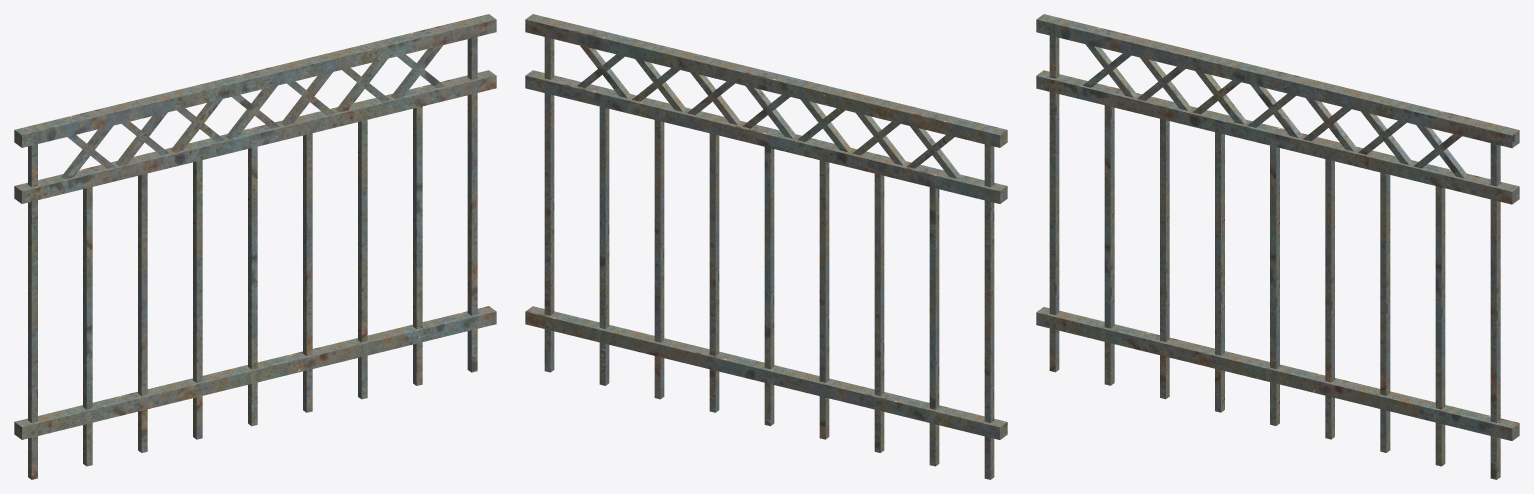
File: newCercaMetal.fbx
3 renders of one model, left to right at view 1: azimuth 30°, elevation 25°; view 2: azimuth 150°, elevation 25°; view 3: azimuth 330°, elevation 25°, orthographic.
Visible parts, largest first — view 1: newCercaMetal; view 2: newCercaMetal; view 3: newCercaMetal.
Part boxes in pixels (x1,y1,x2,y2): newCercaMetal: (14,14,496,479); newCercaMetal: (525,14,1007,479); newCercaMetal: (1036,14,1519,479).
Bounding box in the file's own units: 66.5 × 46.69 × 1.83.
